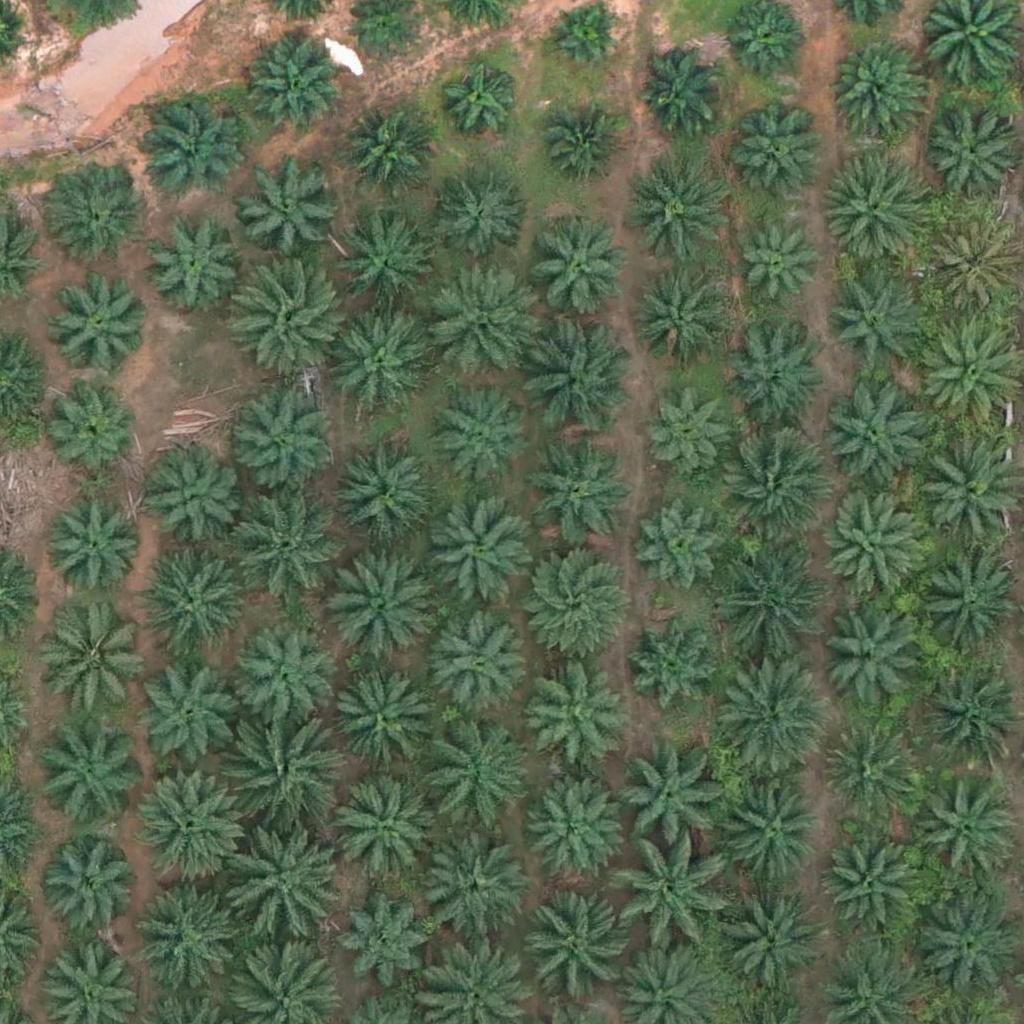Kelapa_Sawit: (416, 836, 529, 950), (422, 262, 535, 376), (519, 889, 632, 1002), (224, 719, 337, 832), (134, 883, 247, 996), (31, 720, 144, 833), (514, 540, 627, 653), (421, 497, 534, 610), (132, 541, 245, 654), (714, 779, 826, 893), (715, 423, 827, 537), (712, 541, 824, 655), (519, 318, 631, 432), (822, 153, 934, 266), (713, 664, 825, 777), (718, 889, 830, 1002), (611, 838, 723, 951), (423, 718, 535, 831), (329, 771, 441, 884), (230, 831, 342, 944), (133, 767, 245, 880), (327, 546, 439, 659), (231, 491, 343, 604), (225, 381, 337, 494), (232, 261, 344, 374), (41, 604, 153, 717), (921, 99, 1021, 200), (828, 39, 928, 140), (729, 107, 829, 208), (527, 220, 627, 321), (239, 157, 339, 258), (137, 96, 237, 197), (45, 161, 145, 262), (913, 778, 1013, 879), (823, 723, 923, 824), (531, 779, 631, 880), (336, 893, 436, 994), (36, 838, 136, 939), (918, 433, 1018, 534), (920, 556, 1020, 657), (826, 274, 926, 375), (824, 393, 924, 494), (724, 331, 824, 432), (621, 611, 721, 712), (520, 661, 620, 762), (429, 610, 529, 711), (428, 381, 528, 482), (327, 311, 427, 412), (331, 444, 431, 545), (326, 672, 426, 773), (235, 627, 335, 728), (142, 448, 242, 549), (135, 662, 235, 763), (47, 496, 147, 597), (50, 271, 150, 372), (627, 162, 727, 262), (242, 43, 342, 143), (141, 212, 241, 312), (818, 838, 918, 938), (614, 750, 714, 850), (923, 671, 1023, 771), (826, 501, 926, 601), (820, 607, 920, 707), (634, 492, 734, 592), (630, 266, 730, 366), (525, 443, 625, 543), (430, 163, 530, 263), (337, 218, 437, 318), (732, 227, 820, 315), (638, 45, 726, 133), (646, 387, 734, 475), (342, 108, 429, 196), (538, 109, 625, 197), (50, 383, 137, 471), (440, 62, 515, 138), (546, 2, 621, 78)
